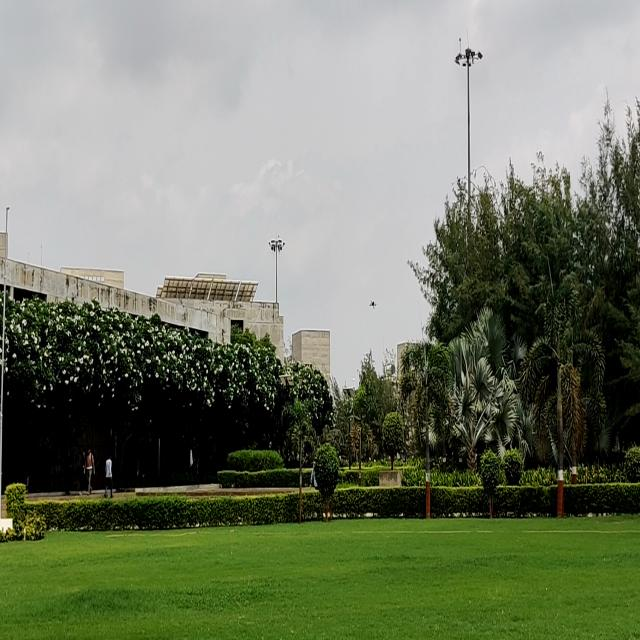drone: (367, 299, 378, 311)
